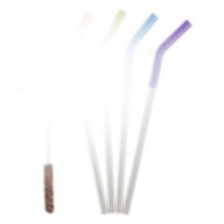drinking_straw: (118, 16, 195, 216), (63, 8, 110, 217)
